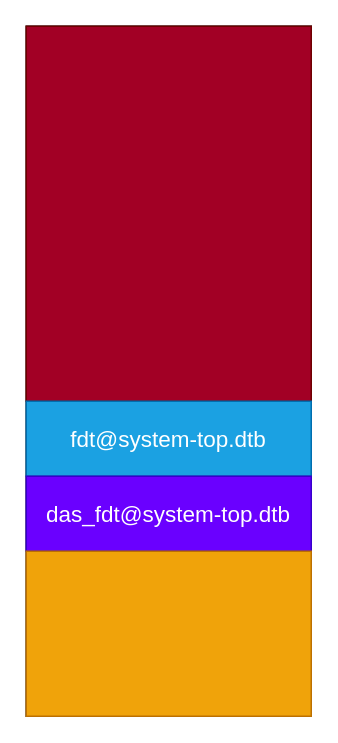
The diagram is 338 pixels wide and 743 high, and some of its shapes have lost their labels. Each missing label, with the centre of its shape:
linux.bin/zImage: point (168, 213)
rootfs.cpio.gz: point (168, 633)
